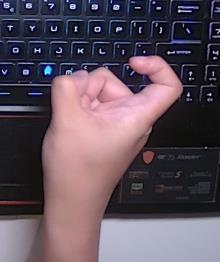anticlockwise: (37, 52, 186, 195)
